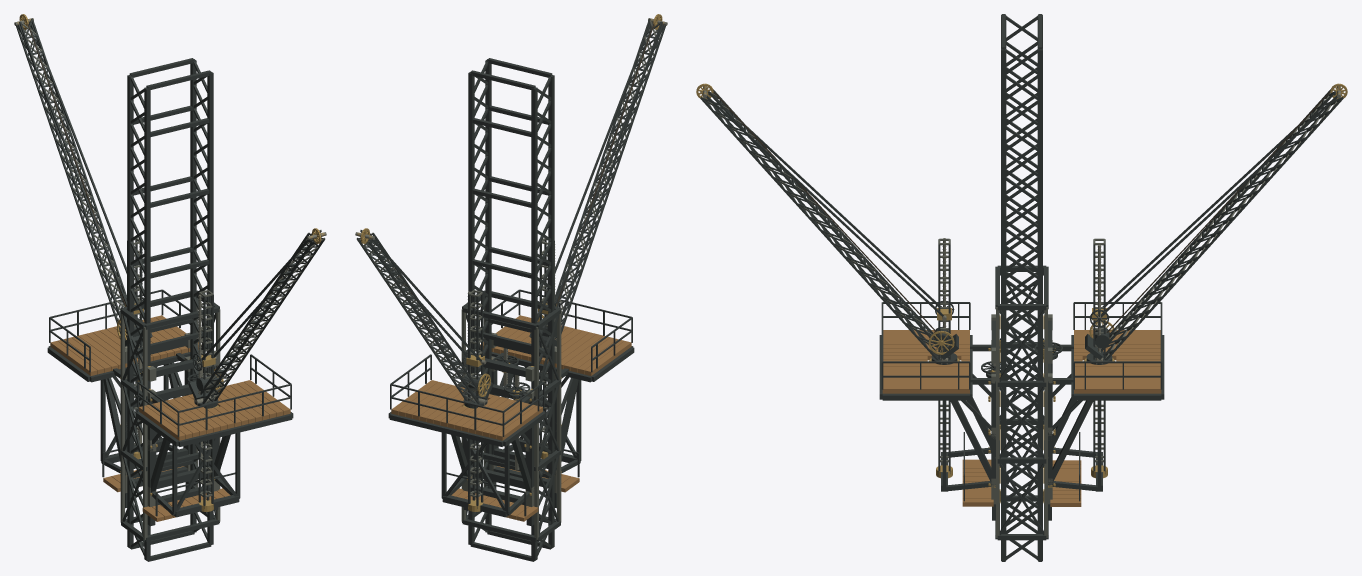
Rendered from vertical-pair.glb.
3 views of the same model, side by side, from view 1: azimuth 30°, elevation 25°; view 2: azimuth 150°, elevation 25°; view 3: azimuth 270°, elevation 25° (orthographic). The views are drawn at different scales.
Parts seen in each view (by area): view 1: guyenet-shared-vertical-guide-pillars-iron, guyenet-carriage-iron.007 — opposite crane, guyenet-carriage-iron.007, guyenet-jib-iron.007, guyenet-carriage-timber.007 — opposite crane, guyenet-carriage-timber.007, guyenet-jib-iron.007 — opposite crane, guyenet-auxiliary-frame-0-iron, guyenet-auxiliary-frame-2-iron, guyenet-rotor-iron.007 — opposite crane, guyenet-jib-edge.007 — opposite crane, guyenet-jib-edge.007 (+13 smaller); view 2: guyenet-shared-vertical-guide-pillars-iron, guyenet-carriage-iron.007, guyenet-jib-iron.007 — opposite crane, guyenet-carriage-timber.007, guyenet-carriage-iron.007 — opposite crane, guyenet-jib-iron.007, guyenet-carriage-timber.007 — opposite crane, guyenet-auxiliary-frame-0-iron, guyenet-rotor-iron.007, guyenet-auxiliary-frame-2-iron, guyenet-jib-edge.007 — opposite crane, guyenet-auxiliary-frame-2-edge (+13 smaller); view 3: guyenet-shared-vertical-guide-pillars-iron, guyenet-carriage-iron.007, guyenet-carriage-iron.007 — opposite crane, guyenet-jib-iron.007 — opposite crane, guyenet-jib-iron.007, guyenet-carriage-timber.007, guyenet-carriage-timber.007 — opposite crane, guyenet-auxiliary-frame-0-iron, guyenet-auxiliary-frame-2-iron, guyenet-auxiliary-frame-1-iron, guyenet-safety-base-timber.007 — opposite crane, guyenet-jib-edge.007 (+5 smaller).
Boxes of the visible parts, x1,y1,x2,y2 form: guyenet-shared-vertical-guide-pillars-iron: (127, 58, 213, 561); guyenet-carriage-iron.007 — opposite crane: (136, 354, 293, 517); guyenet-carriage-iron.007: (47, 289, 203, 475); guyenet-jib-iron.007: (16, 18, 152, 346); guyenet-carriage-timber.007 — opposite crane: (139, 380, 290, 440); guyenet-carriage-timber.007: (50, 315, 201, 375); guyenet-jib-iron.007 — opposite crane: (188, 230, 325, 403); guyenet-auxiliary-frame-0-iron: (121, 439, 219, 541); guyenet-auxiliary-frame-2-iron: (121, 290, 219, 392); guyenet-rotor-iron.007 — opposite crane: (194, 292, 218, 508); guyenet-jib-edge.007 — opposite crane: (205, 230, 324, 402); guyenet-jib-edge.007: (21, 22, 126, 320); guyenet-shared-vertical-guide-pillars-iron: (468, 58, 554, 561); guyenet-carriage-iron.007: (388, 354, 545, 517); guyenet-jib-iron.007 — opposite crane: (529, 18, 665, 346); guyenet-carriage-timber.007: (391, 380, 542, 440); guyenet-carriage-iron.007 — opposite crane: (478, 289, 634, 474); guyenet-jib-iron.007: (356, 230, 493, 403); guyenet-carriage-timber.007 — opposite crane: (480, 315, 631, 375); guyenet-auxiliary-frame-0-iron: (462, 439, 560, 541); guyenet-rotor-iron.007: (463, 292, 487, 508); guyenet-auxiliary-frame-2-iron: (462, 290, 560, 392); guyenet-jib-edge.007 — opposite crane: (555, 18, 659, 319); guyenet-auxiliary-frame-2-edge: (461, 307, 561, 398); guyenet-shared-vertical-guide-pillars-iron: (1001, 14, 1042, 561); guyenet-carriage-iron.007: (1043, 302, 1164, 491); guyenet-carriage-iron.007 — opposite crane: (879, 302, 1000, 491); guyenet-jib-iron.007 — opposite crane: (700, 88, 958, 360); guyenet-jib-iron.007: (1085, 89, 1343, 360); guyenet-carriage-timber.007: (1074, 330, 1161, 393); guyenet-carriage-timber.007 — opposite crane: (882, 330, 969, 393); guyenet-auxiliary-frame-0-iron: (995, 418, 1048, 540); guyenet-auxiliary-frame-2-iron: (995, 265, 1048, 381); guyenet-auxiliary-frame-1-iron: (995, 342, 1048, 458); guyenet-safety-base-timber.007 — opposite crane: (962, 459, 993, 506); guyenet-jib-edge.007: (1101, 88, 1343, 358).
Bounding box in the file's own units: 5.2 × 20.15 × 23.11.
